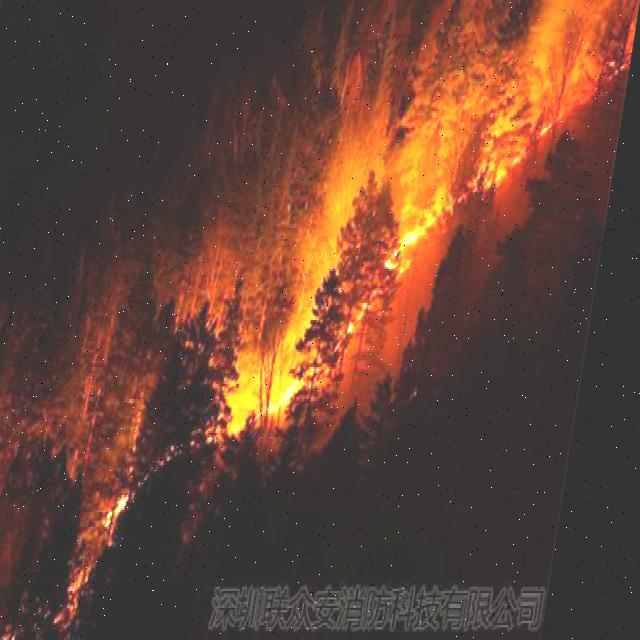Fire: (216, 28, 630, 442), (75, 482, 146, 623)
